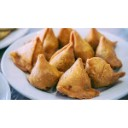samosa: (55, 58, 97, 97), (11, 36, 45, 74), (86, 57, 122, 86), (30, 53, 60, 85), (97, 36, 123, 67), (69, 31, 95, 60), (50, 43, 76, 68)
